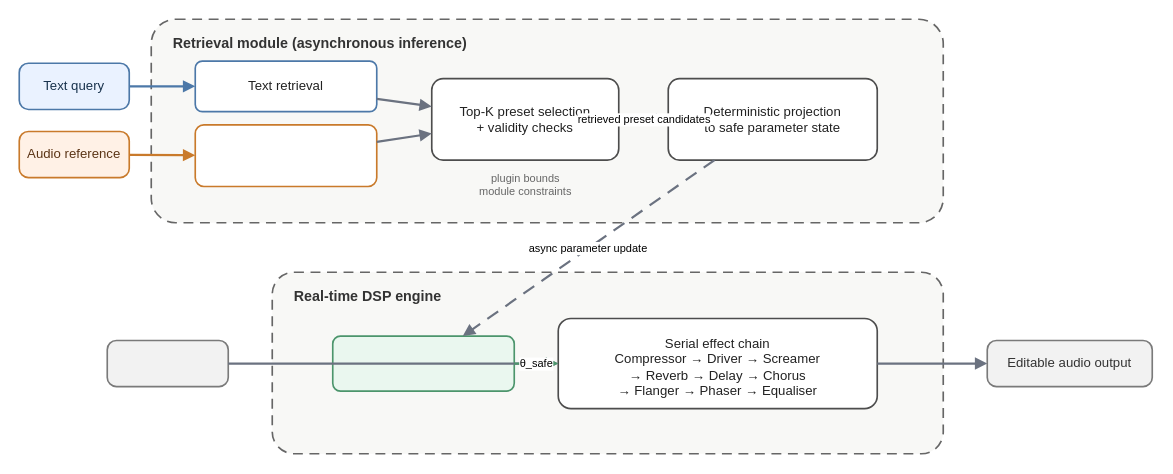
The diagram is 1173 pixels wide and 474 high, and some of its shapes have lost their labels. The centre of each missing label's shape, as x and y in pixels:
"Input audio" belongs at point 167,363.
"Parameter state θ_safe" belongs at point 423,363.
"TRR encoding + audio retrieval" belongs at point 285,155.
